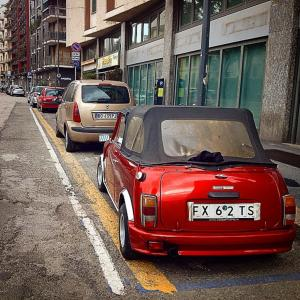Vehicle-registration-plate: (189, 203, 262, 222), (92, 112, 120, 120)
